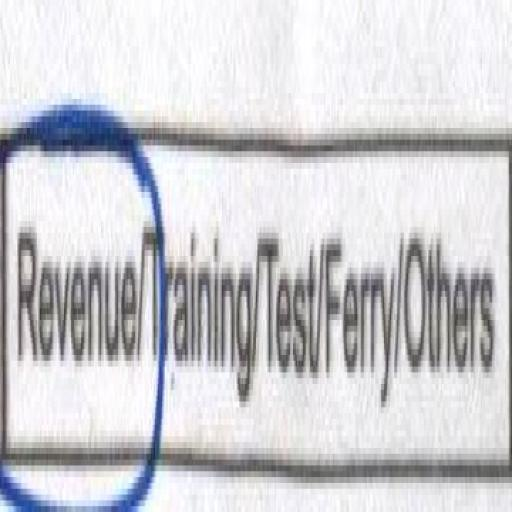check: (0, 62, 148, 512)
